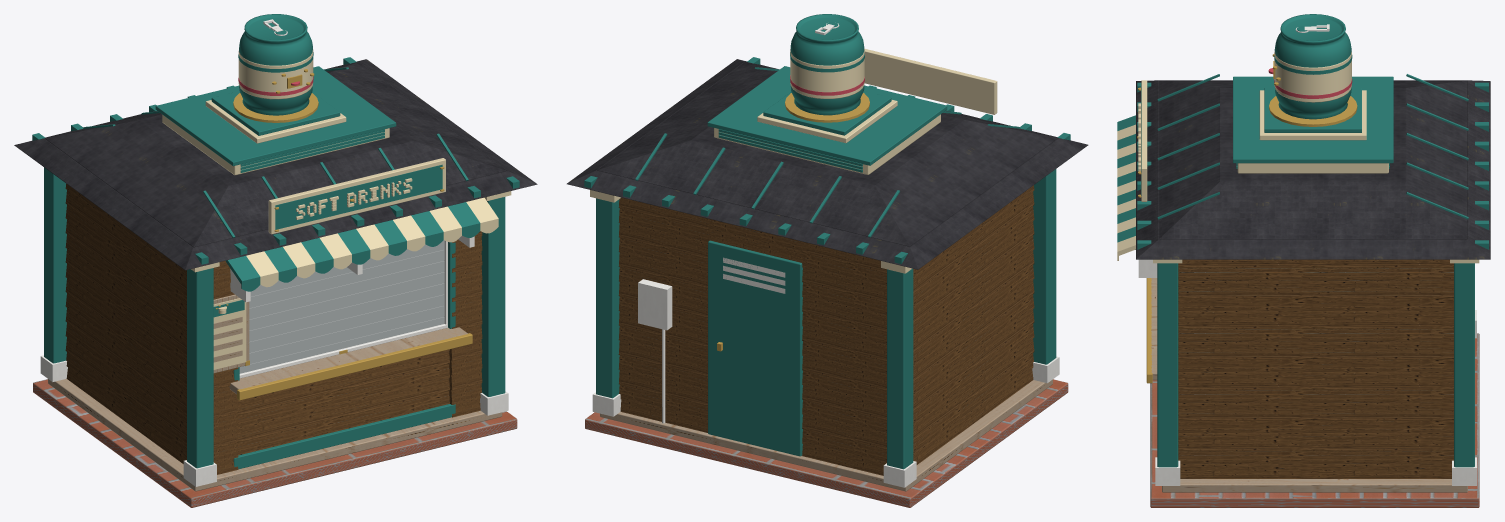
File: soft-drink.glb
The picture shows the model from 3 angles, left to right: view 1: azimuth 30°, elevation 25°; view 2: azimuth 150°, elevation 25°; view 3: azimuth 270°, elevation 25°; orthographic projection. The views are drawn at different scales.
Parts seen in each view (by area): view 1: Static_GroundRoot_boards_cream, Static_GroundRoot_roof_teal, Static_GroundRoot_paint_teal, ClosedShutter_Curtain, Static_GroundRoot_timber, Plinth_Foundation, Static_SodaCanLandmark_paint_teal, Static_FrontAwning_paint_teal, Static_FrontAwning_cream, Static_SoftDrinksPlaque_paint_teal, Static_SoftDrinksPlaque_cream, Static_SodaCanLandmark_cream (+7 smaller); view 2: Static_GroundRoot_boards_cream, Static_GroundRoot_paint_teal, Static_GroundRoot_roof_teal, Plinth_Foundation, Static_SodaCanLandmark_paint_teal, Static_GroundRoot_timber, Static_GroundRoot_metal, Static_SoftDrinksPlaque_cream, Static_SodaCanLandmark_cream, Static_GroundRoot_cream, Static_SodaCanLandmark_brass; view 3: Static_GroundRoot_boards_cream, Static_GroundRoot_roof_teal, Static_GroundRoot_paint_teal, Plinth_Foundation, Static_SodaCanLandmark_paint_teal, Static_GroundRoot_timber, Static_SodaCanLandmark_cream, Static_GroundRoot_cream, Static_GroundRoot_metal, Static_FrontAwning_cream, Static_FrontAwning_paint_teal, Static_SodaCanLandmark_brass (+2 smaller).
Part boxes in pixels (box(x1,y1,x2,y2)): Static_GroundRoot_boards_cream: box(65, 184, 482, 474); Static_GroundRoot_roof_teal: box(14, 59, 537, 270); Static_GroundRoot_paint_teal: box(32, 57, 519, 469); ClosedShutter_Curtain: box(239, 240, 444, 373); Static_GroundRoot_timber: box(48, 327, 502, 491); Plinth_Foundation: box(33, 379, 517, 507); Static_SodaCanLandmark_paint_teal: box(211, 14, 340, 135); Static_FrontAwning_paint_teal: box(225, 202, 480, 291); Static_FrontAwning_cream: box(246, 197, 498, 287); Static_SoftDrinksPlaque_paint_teal: box(275, 164, 442, 229); Static_SoftDrinksPlaque_cream: box(268, 158, 445, 234); Static_SodaCanLandmark_cream: box(205, 49, 346, 143); Static_GroundRoot_boards_cream: box(618, 185, 1034, 475); Static_GroundRoot_paint_teal: box(584, 57, 1070, 469); Static_GroundRoot_roof_teal: box(567, 59, 1088, 269); Plinth_Foundation: box(585, 379, 1068, 507); Static_SodaCanLandmark_paint_teal: box(763, 14, 891, 135); Static_GroundRoot_timber: box(600, 379, 1052, 491); Static_GroundRoot_metal: box(592, 257, 1059, 487); Static_SoftDrinksPlaque_cream: box(864, 48, 997, 114); Static_SodaCanLandmark_cream: box(757, 49, 897, 143); Static_GroundRoot_cream: box(590, 114, 940, 273); Static_SodaCanLandmark_brass: box(785, 58, 869, 122); Static_GroundRoot_boards_cream: box(1178, 259, 1453, 478); Static_GroundRoot_roof_teal: box(1136, 80, 1490, 259); Static_GroundRoot_paint_teal: box(1135, 74, 1488, 467); Plinth_Foundation: box(1150, 333, 1479, 507); Static_SodaCanLandmark_paint_teal: box(1264, 14, 1361, 132); Static_GroundRoot_timber: box(1151, 278, 1467, 492); Static_SodaCanLandmark_cream: box(1259, 51, 1366, 140); Static_GroundRoot_cream: box(1153, 163, 1479, 263); Static_GroundRoot_metal: box(1138, 259, 1476, 485); Static_FrontAwning_cream: box(1117, 124, 1135, 260); Static_FrontAwning_paint_teal: box(1117, 115, 1135, 242); Static_SodaCanLandmark_brass: box(1269, 54, 1357, 126).
Bounding box in the file's own units: 3.63 × 3.78 × 3.21.
Materials: 11 (5 with a texture image).
